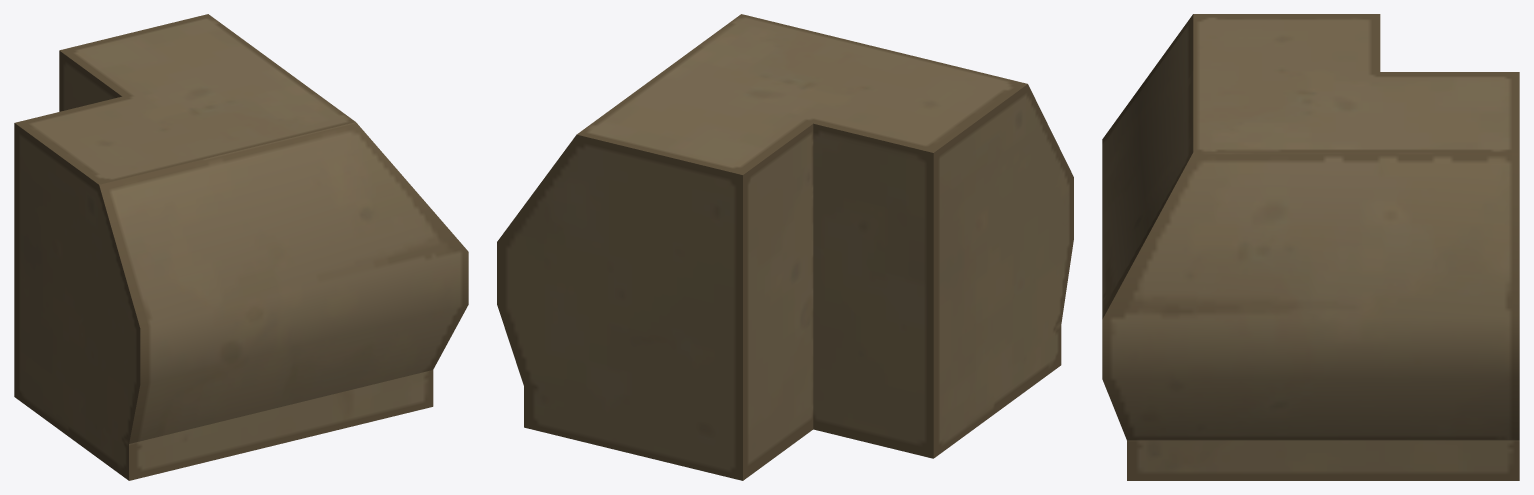
The model's file is SM_building_block_05.glb.
3 renders of one model, left to right at view 1: azimuth 30°, elevation 25°; view 2: azimuth 150°, elevation 25°; view 3: azimuth 270°, elevation 25°, orthographic. The views are drawn at different scales.
Visible parts, largest first — view 1: SM_building_block_05; view 2: SM_building_block_05; view 3: SM_building_block_05.
Boxes of the visible parts, x1,y1,x2,y2 form: SM_building_block_05: (14, 14, 468, 480); SM_building_block_05: (497, 14, 1073, 480); SM_building_block_05: (1102, 14, 1519, 480).
Size of the model in its own units: 0.4605 by 0.3676 by 0.4591.
1 material, 1 textured.
